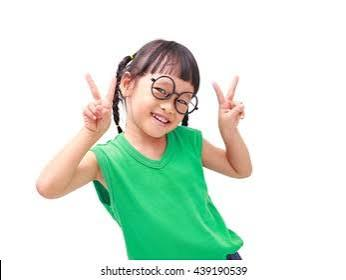peace_sign: (78, 68, 122, 133), (210, 73, 248, 130)
